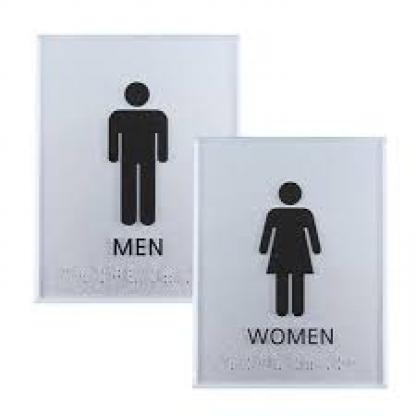toilet: (104, 85, 174, 224), (257, 180, 324, 320)
